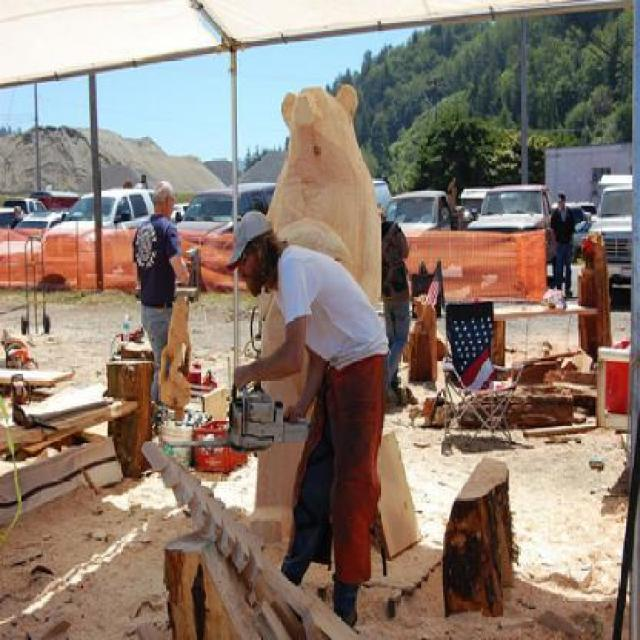Chainsaw: (176, 384, 286, 454)
